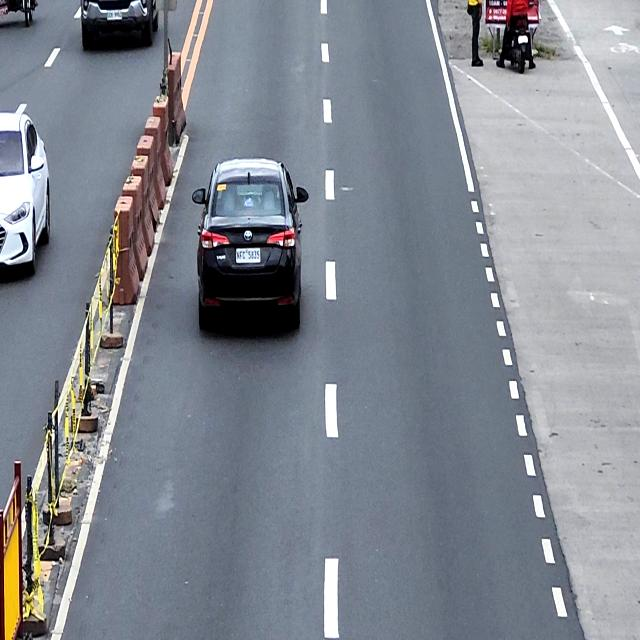Car: (192, 157, 308, 330), (0, 102, 51, 273), (80, 0, 159, 50)
License-Plate: (234, 246, 262, 264), (106, 10, 122, 20), (518, 35, 529, 44)
Motorcycle: (503, 0, 534, 74)
Tricycle: (0, 0, 38, 27)
